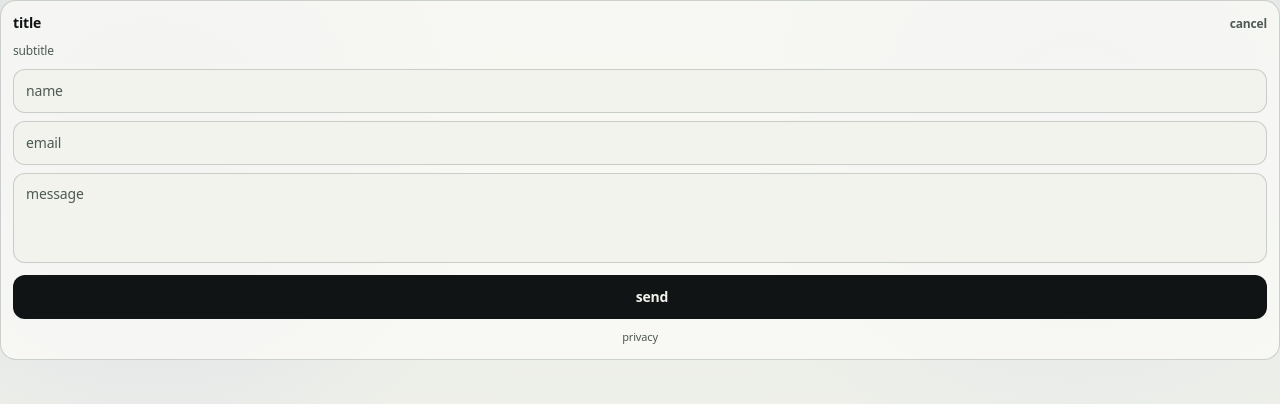
Test: ChatContactForm › keeps the form open and warns when the provider fails
Type "Maria Andrade" into the field with placeholder "name" at (640, 91), box [13,69,1267,113]
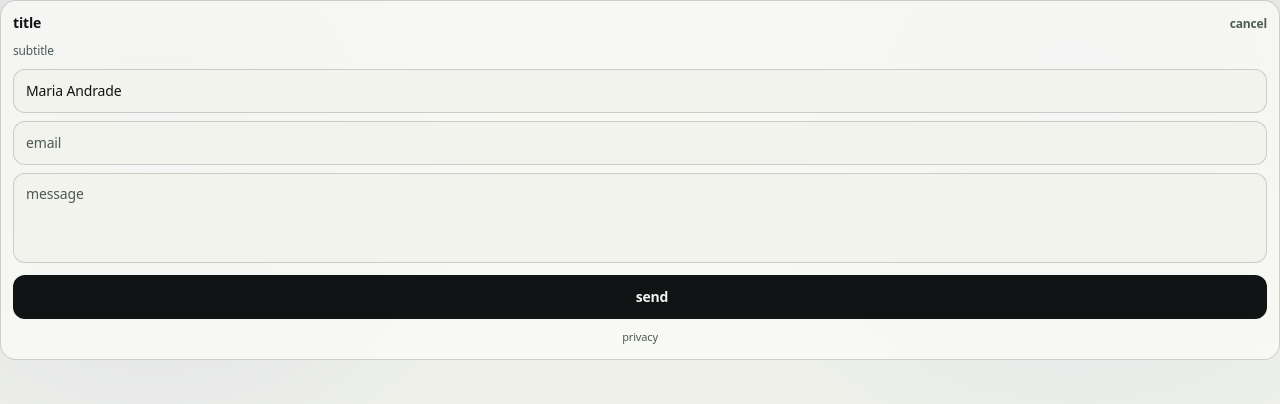
Type "maria@empresa.com.br" into the field with placeholder "email" at (640, 143), box [13,121,1267,165]
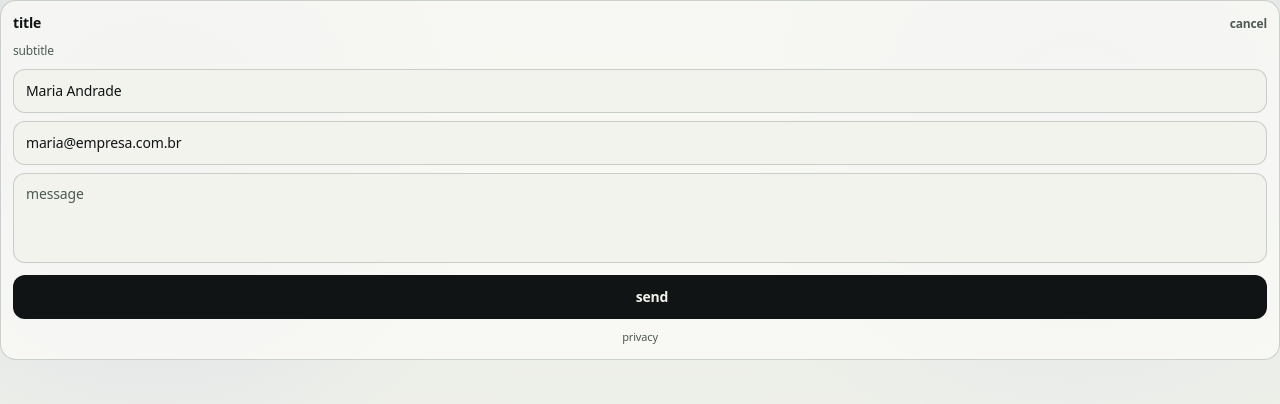
Type "Preciso de um app de pedidos integrado ao WhatsApp." into the text box with placeholder "message" at (640, 218), box [13,173,1267,263]
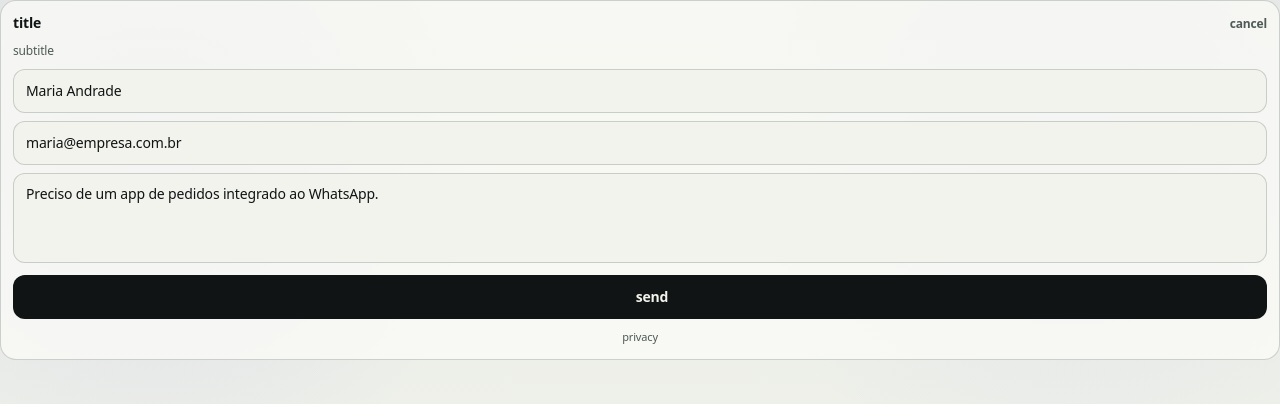
Submit the form with test id "chat-contact-form"
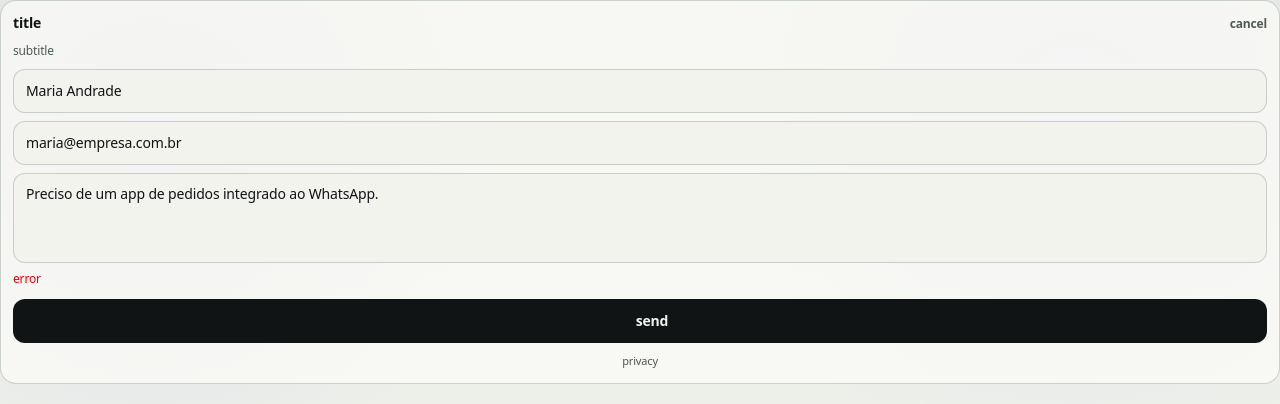
Result: the message reads "error" at [13,270,41,287]
